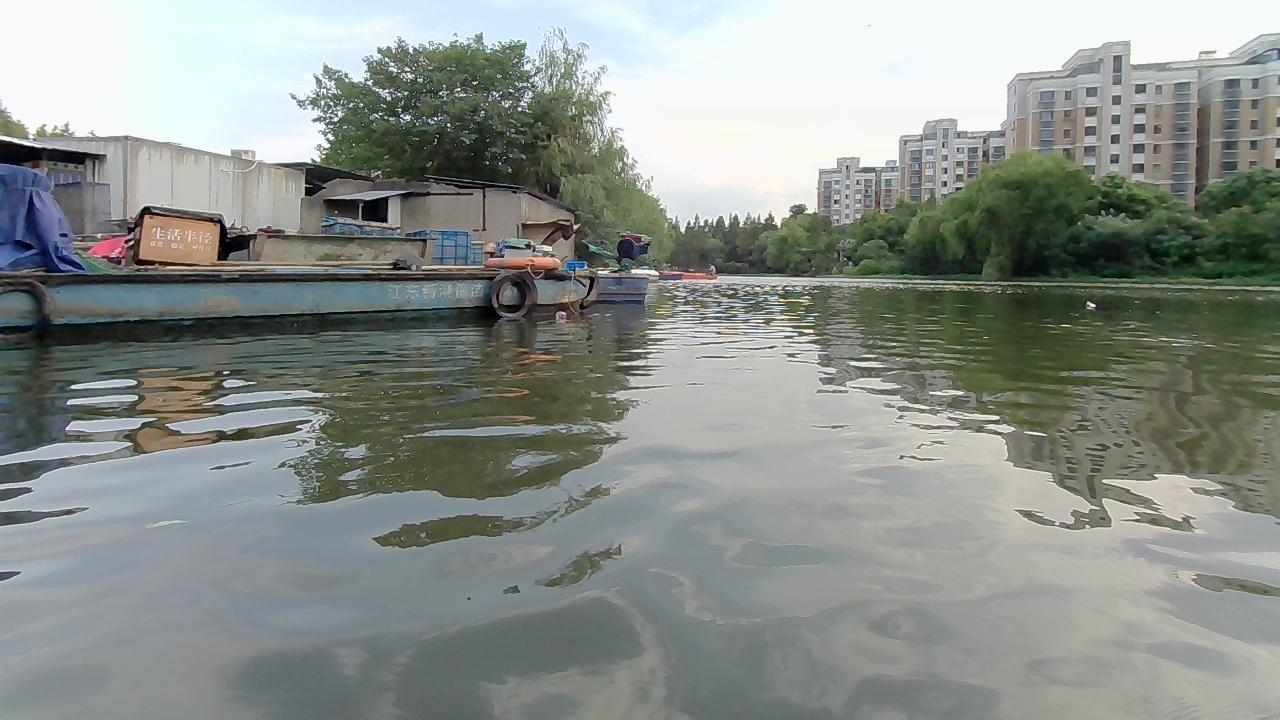bottle: (550, 308, 571, 326), (1080, 298, 1097, 313)
